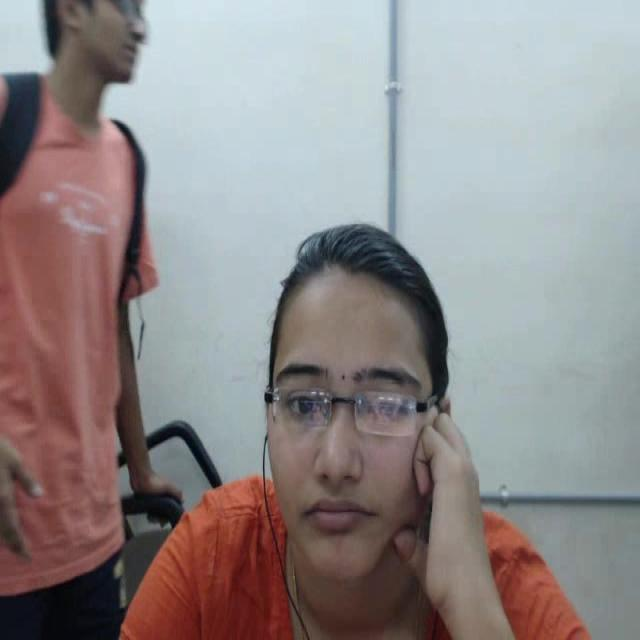Bored: (244, 184, 478, 598)
